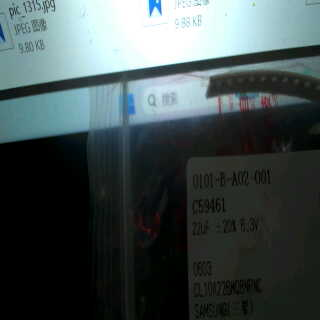22uF: (189, 216, 210, 238)
